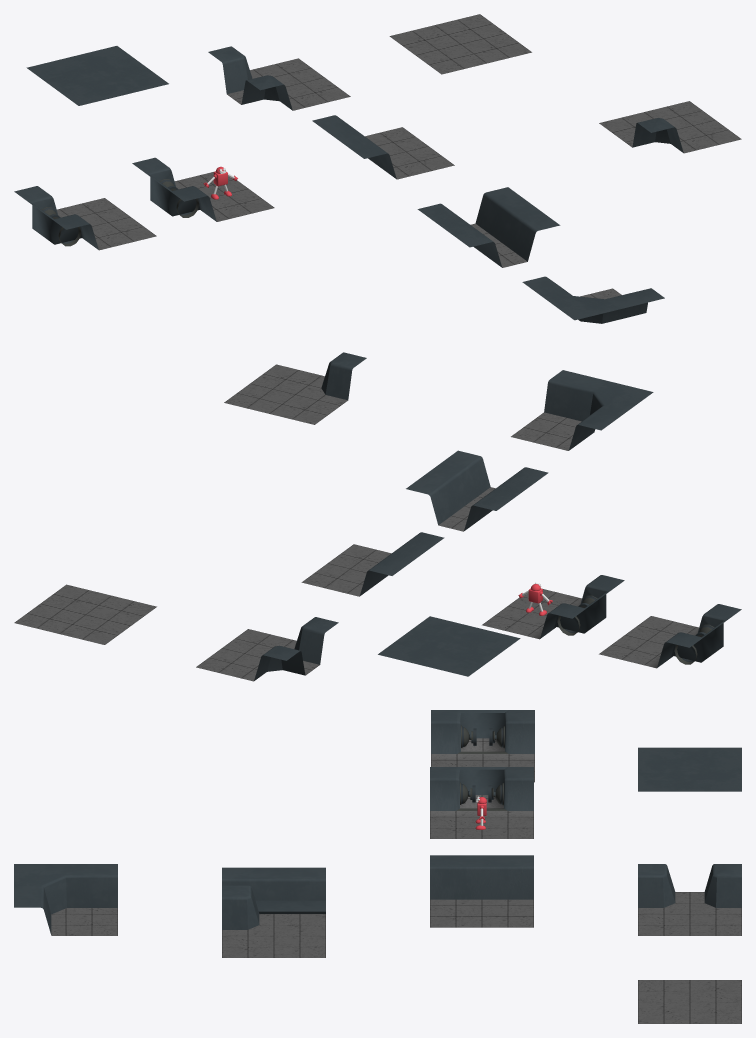
Rendered from tileset_r02.fbx.
3 views of the same model, one above another, from view 1: azimuth 30°, elevation 25°; view 2: azimuth 150°, elevation 25°; view 3: azimuth 270°, elevation 25° (orthographic).
Parts seen in each view (by area): view 1: 17_0_01_MSH, 127_0_00_MSH, 127_0_00_MSH.001, 95_0_32_MSH, Cylinder.005, Cylinder.003, 95_0_32_MSH.001, 31_0_08_MSH, 7_0_02_MSH; view 2: 7_0_02_MSH, 17_0_01_MSH, 95_0_32_MSH.001, 127_0_00_MSH, 127_0_00_MSH.001, 95_0_32_MSH, Cylinder.005, Cylinder.003, 31_0_08_MSH; view 3: 31_0_08_MSH, Cylinder.003, 7_0_02_MSH, 95_0_32_MSH, Cylinder.005, 95_0_32_MSH.001, 127_0_00_MSH.001, 127_0_00_MSH, 17_0_01_MSH.
Part boxes in pixels (x1,y1,x2,y2): 17_0_01_MSH: (417,187,560,267); 127_0_00_MSH: (389,14,531,74); 127_0_00_MSH.001: (26,46,168,105); 95_0_32_MSH: (208,46,350,110); Cylinder.005: (14,186,156,250); Cylinder.003: (132,157,274,221); 95_0_32_MSH.001: (599,101,741,153); 31_0_08_MSH: (312,115,454,179); 7_0_02_MSH: (522,276,664,323); 7_0_02_MSH: (511,370,653,450); 17_0_01_MSH: (406,450,548,531); 95_0_32_MSH.001: (224,352,366,424); 127_0_00_MSH: (14,584,156,644); 127_0_00_MSH.001: (378,616,520,676); 95_0_32_MSH: (196,617,338,681); Cylinder.005: (599,604,741,668); Cylinder.003: (482,575,624,639); 31_0_08_MSH: (301,532,444,596); 31_0_08_MSH: (430,855,533,927); Cylinder.003: (430,767,533,838); 7_0_02_MSH: (14,864,117,935); 95_0_32_MSH: (638,864,741,935); Cylinder.005: (431,710,534,782); 95_0_32_MSH.001: (222,885,325,957); 127_0_00_MSH.001: (638,747,741,791); 127_0_00_MSH: (638,980,741,1023); 17_0_01_MSH: (222,867,325,913).
Size of the model in its own units: 3143 by 520 by 3500.
